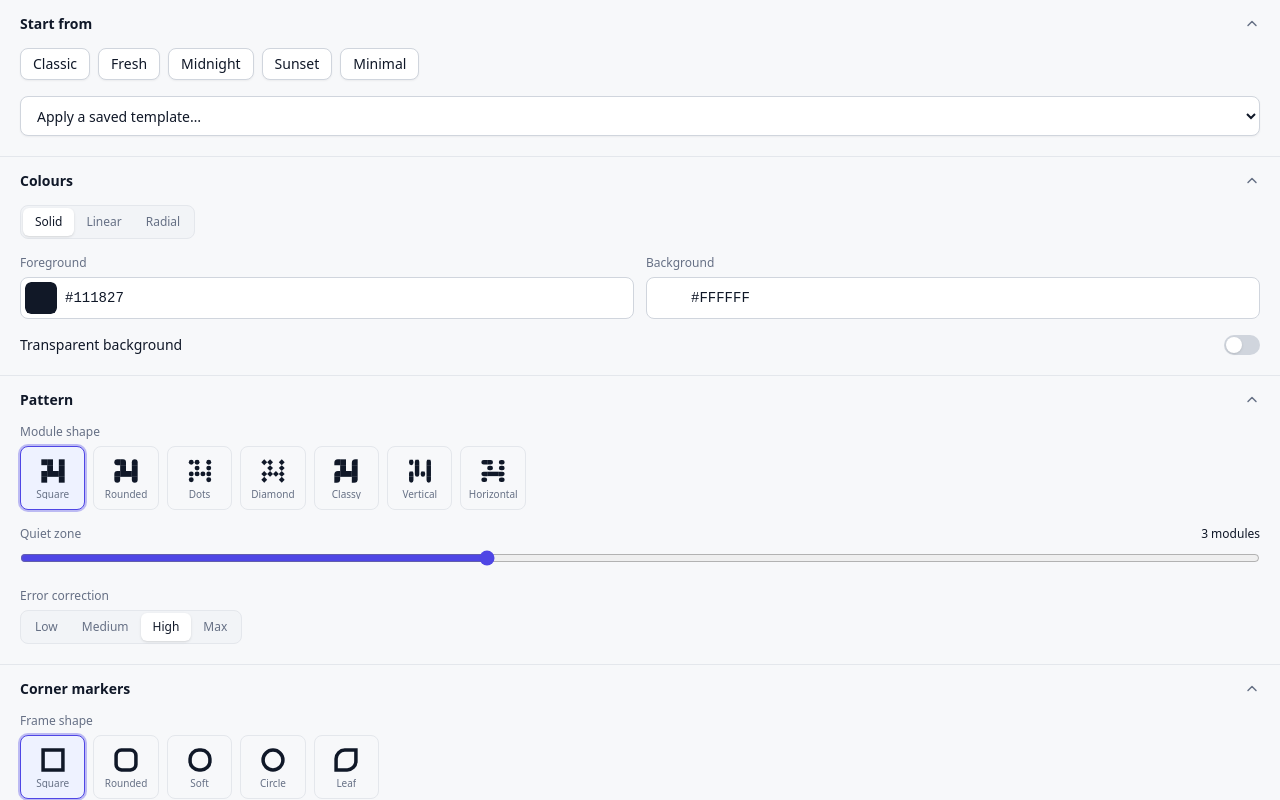
QrDesigner › switches to a gradient fill
Click the radio button labelled "Linear" at (104, 222), box [74,208,134,236]
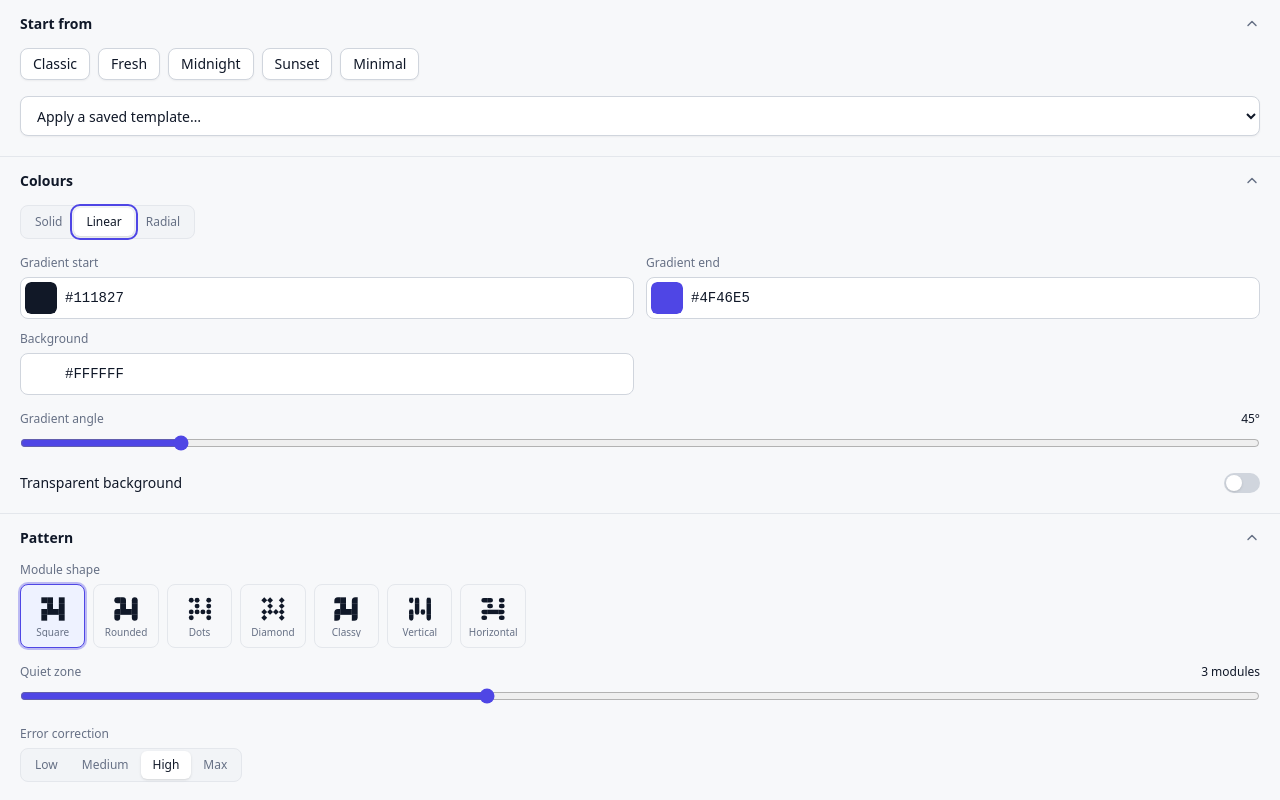
Expected: the field labelled "Gradient end" is shown, [691,288,1251,308]
